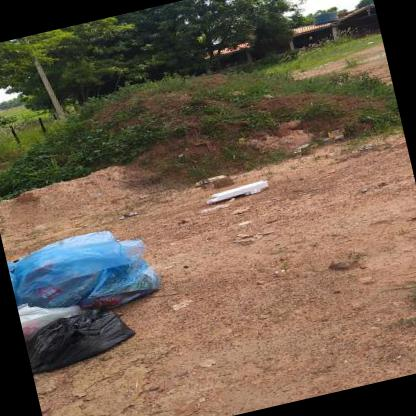lixo: (13, 212, 170, 384)
